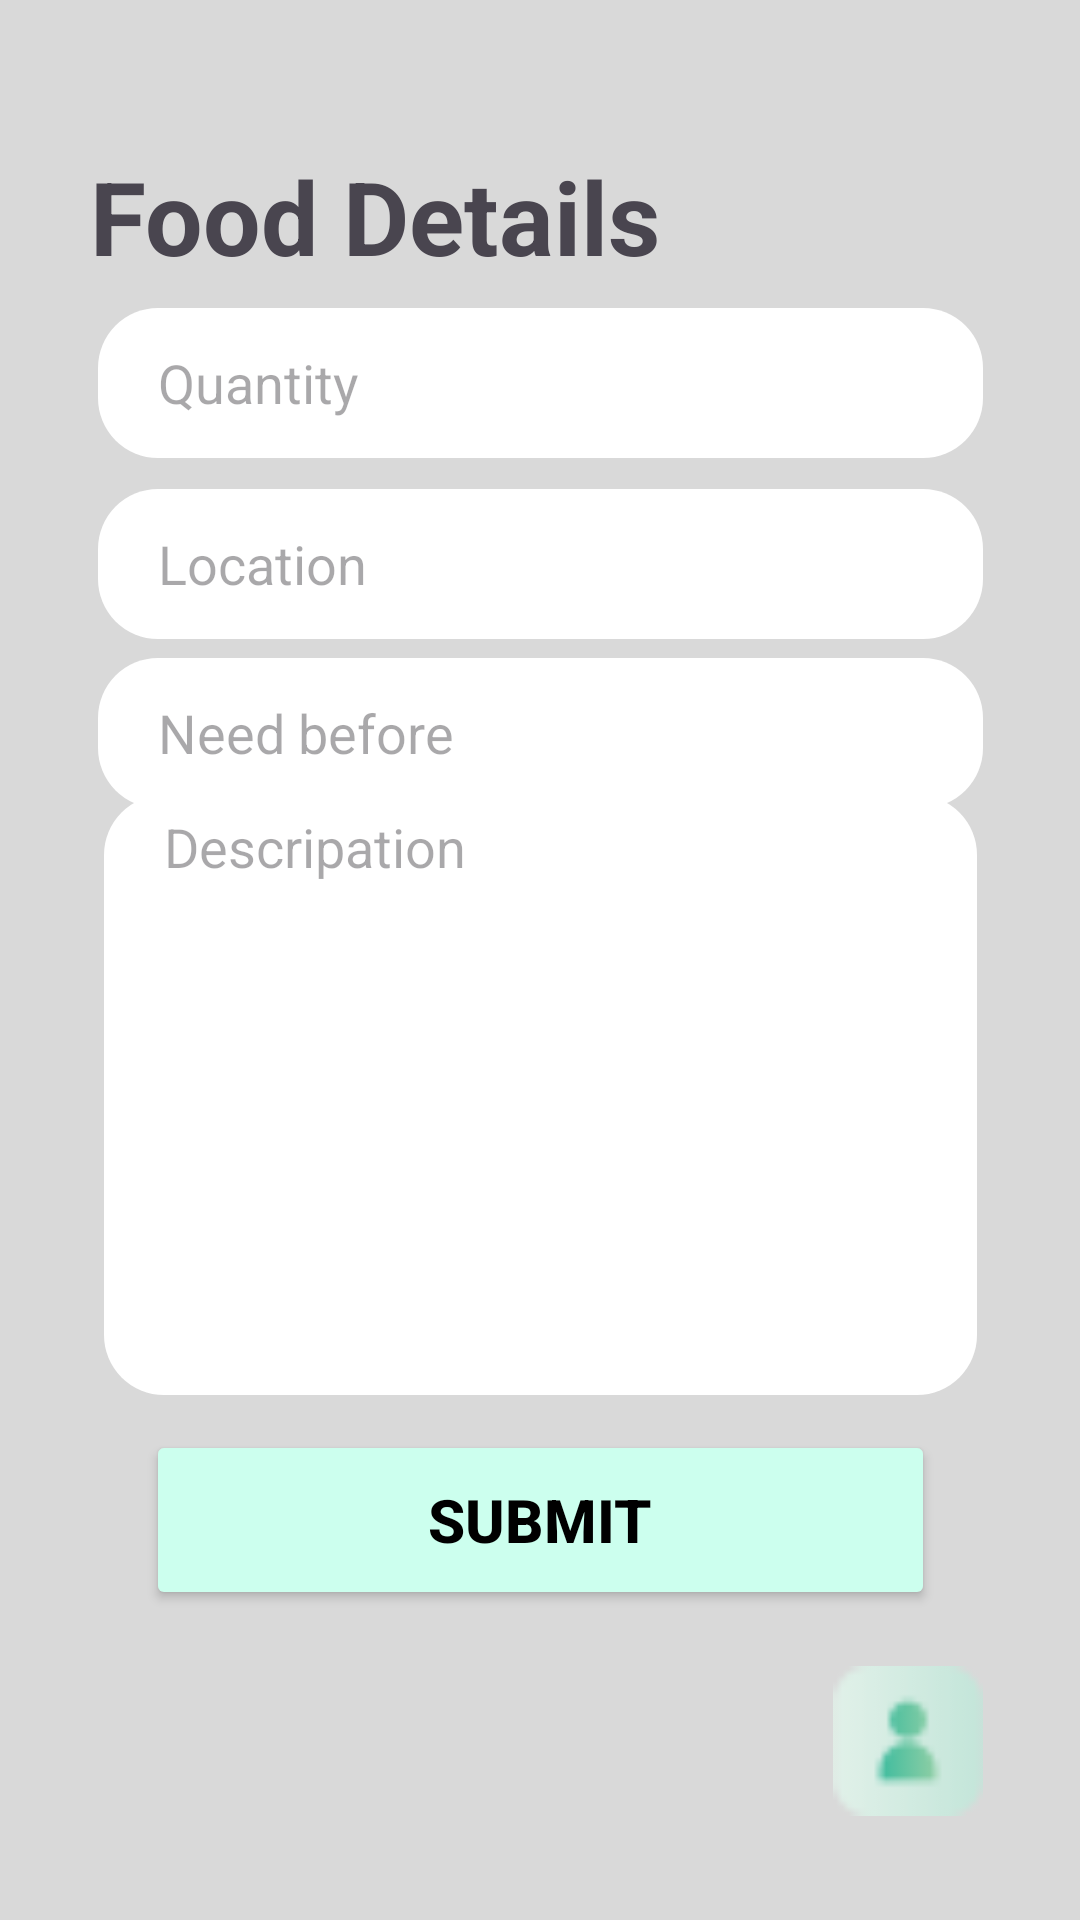

Named icons in this screenshot (1080x1920) and their bounding boxes, (x1, y1, x2, y2):
profile: (876, 1698, 940, 1785)
